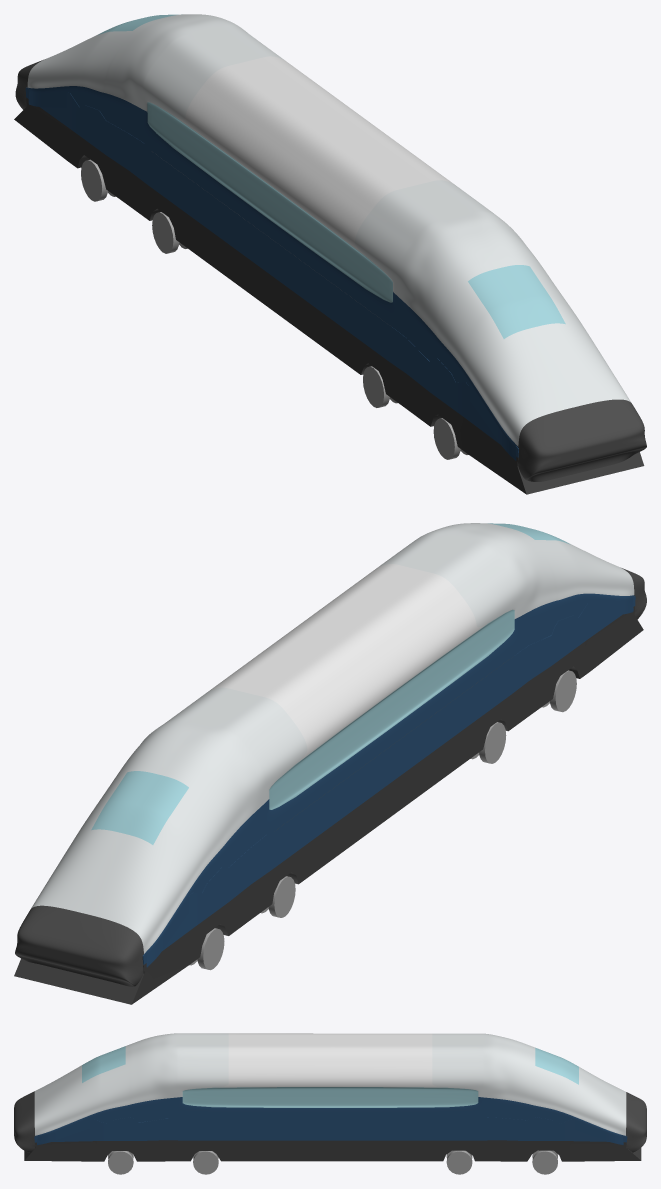
The model's file is TGV 1.fbx.
The picture shows the model from 3 angles, top to bottom: view 1: azimuth 30°, elevation 25°; view 2: azimuth 150°, elevation 25°; view 3: azimuth 270°, elevation 25°; orthographic projection. The views are drawn at different scales.
Parts seen in each view (by area): view 1: polySurface3, polySurface2, pCylinder1, pCylinder8, pCylinder16, pCylinder12; view 2: polySurface3, polySurface2, pCylinder1, pCylinder8, pCylinder16, pCylinder12; view 3: polySurface3, polySurface2, pCylinder4, pCylinder5, pCylinder9, pCylinder13.
Part boxes in pixels (x1,y1,x2,y2): polySurface3: (15, 14, 646, 481); polySurface2: (14, 87, 644, 494); pCylinder1: (81, 159, 107, 201); pCylinder8: (152, 212, 179, 253); pCylinder16: (433, 418, 460, 459); pCylinder12: (363, 366, 389, 407); polySurface3: (15, 523, 646, 986); polySurface2: (14, 596, 643, 1004); pCylinder1: (197, 928, 224, 970); pCylinder8: (268, 876, 295, 917); pCylinder16: (550, 670, 576, 712); pCylinder12: (479, 722, 506, 763); polySurface3: (14, 1033, 646, 1152); polySurface2: (24, 1117, 641, 1161); pCylinder4: (532, 1150, 557, 1174); pCylinder5: (446, 1150, 472, 1174); pCylinder9: (193, 1151, 218, 1174); pCylinder13: (108, 1151, 133, 1174).
Bounding box in the file's own units: 4 × 5.99 × 29.66.
